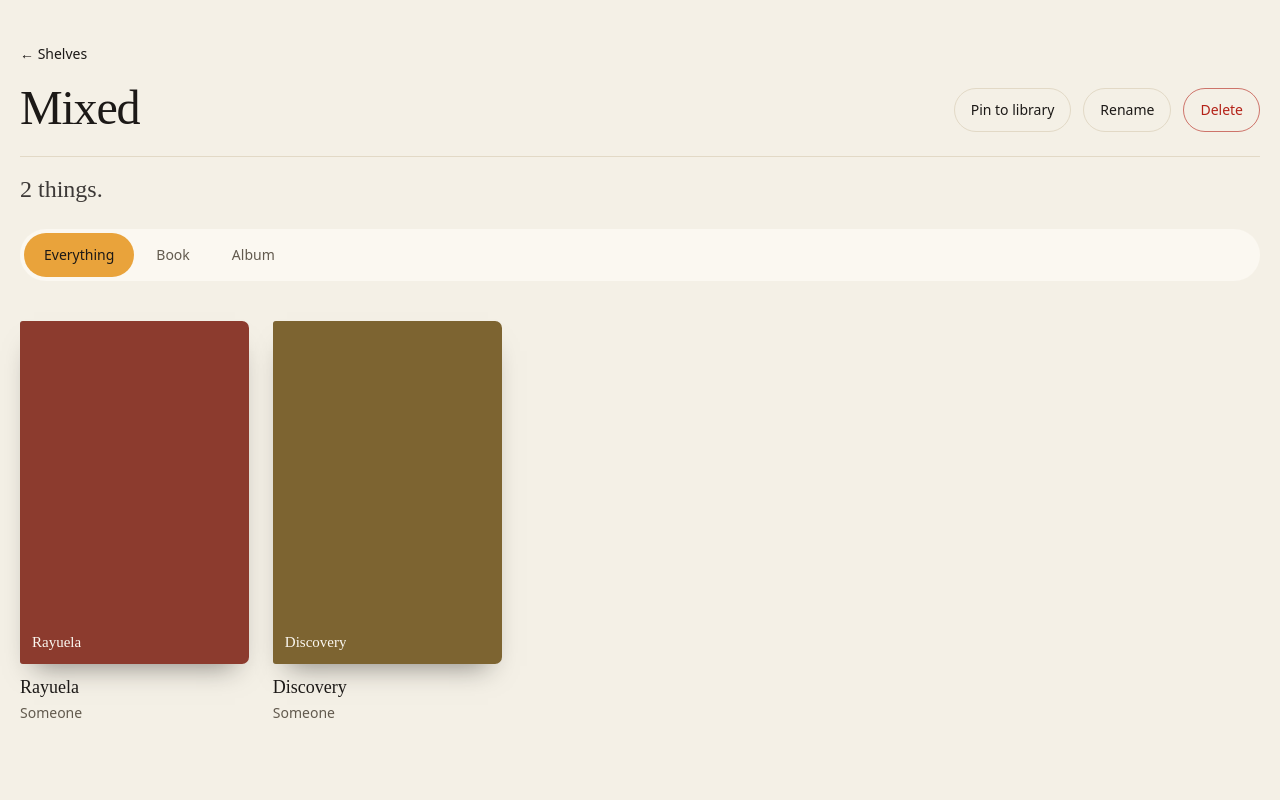
Test: ShelfPage › deletes the shelf with confirmation, stating entries are retained
Expected: the heading "Mixed" is shown, [20,84,139,132]
Click the button "Delete".
click(1222, 110)  # box [1183,88,1260,132]
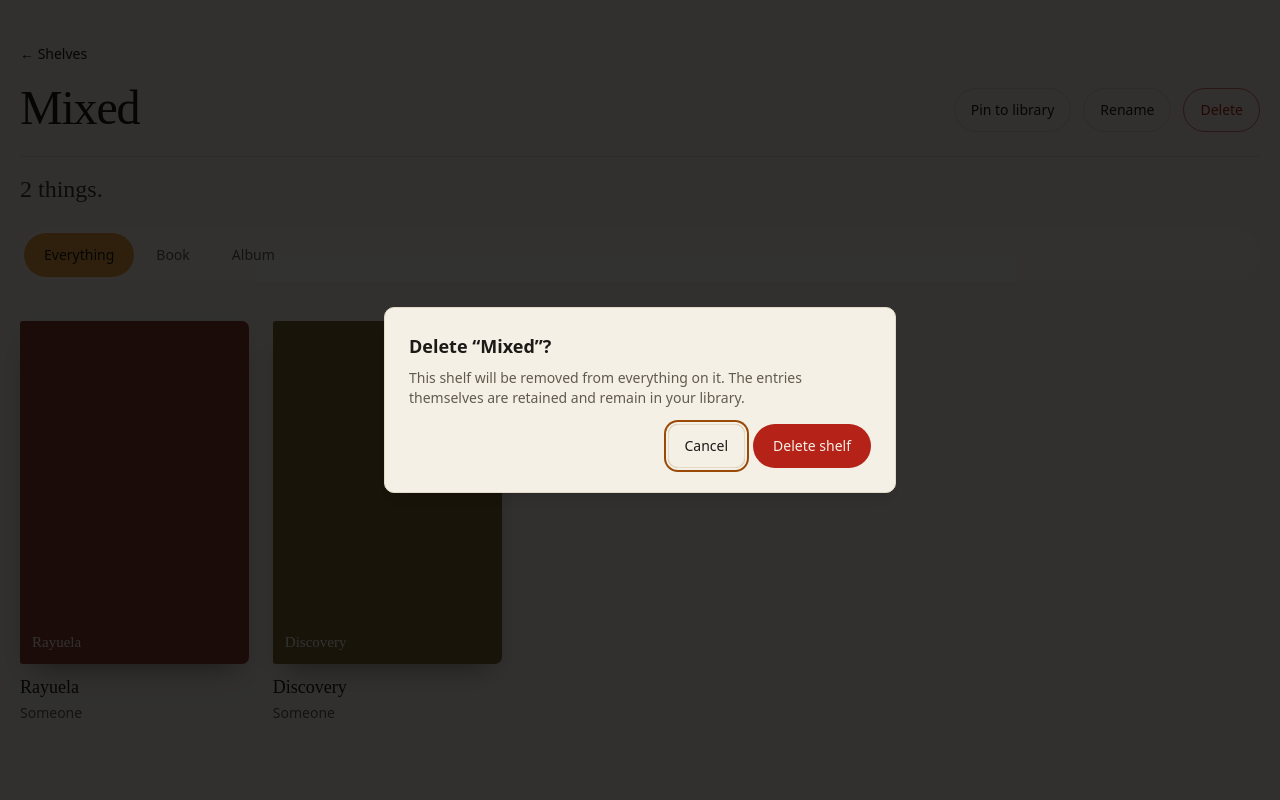
Click the button "Delete shelf".
click(812, 446)  # box [753,424,871,468]
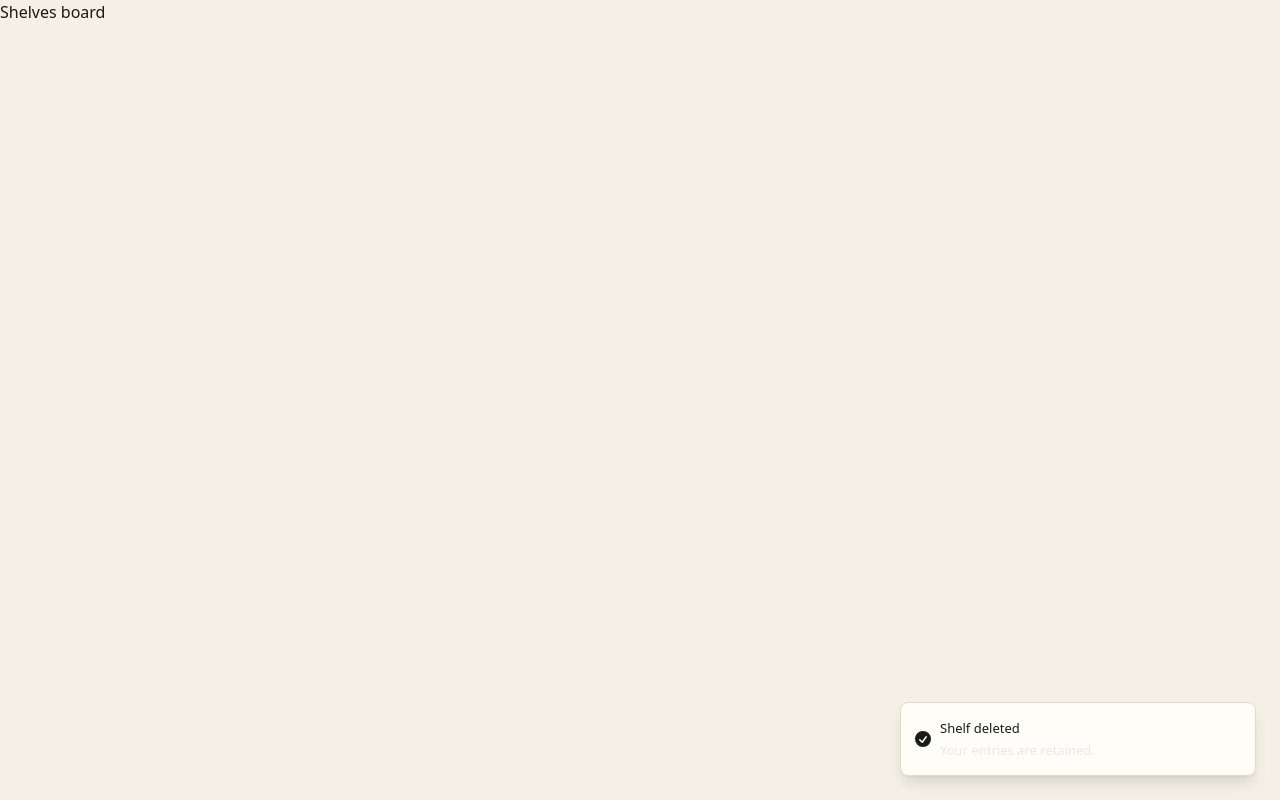
Now the list item "Shelf deleted Your entries are retained." is shown, box [900,702,1256,776]
